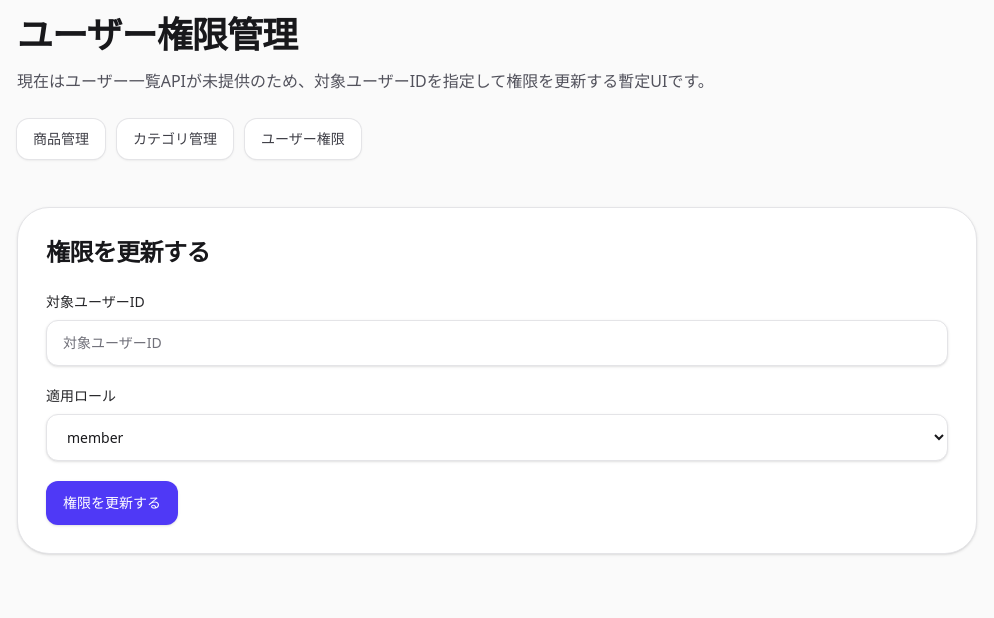
AdminUsersPage › ユーザーIDの入力を検証する
Type "0" into the number field with placeholder "対象ユーザーID" at coordinates (497, 343), box 46,320 -> 948,366
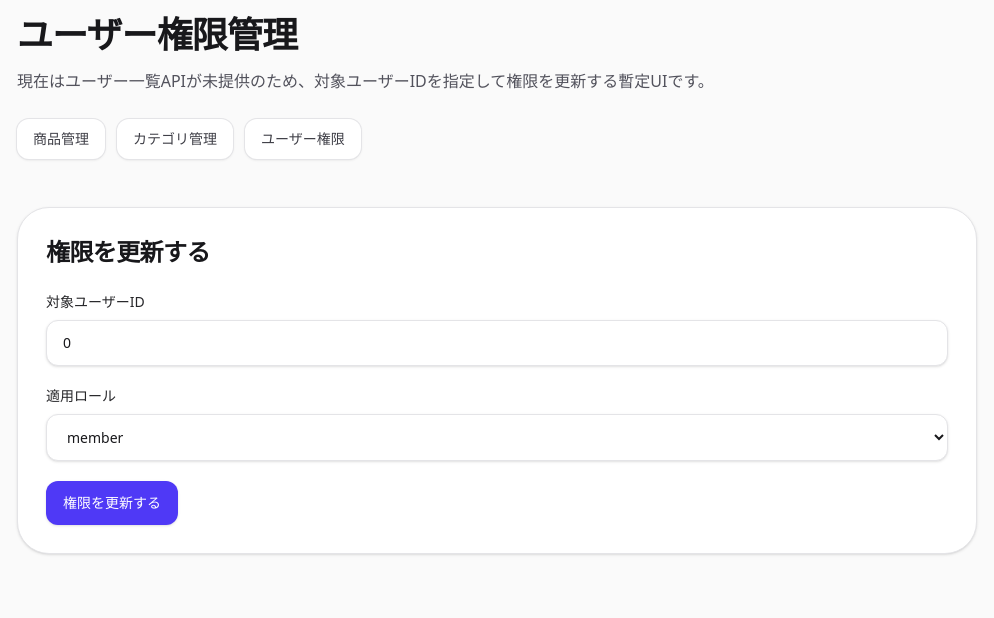
Click the button "権限を更新する" at coordinates (112, 503), box 46,481 -> 178,525
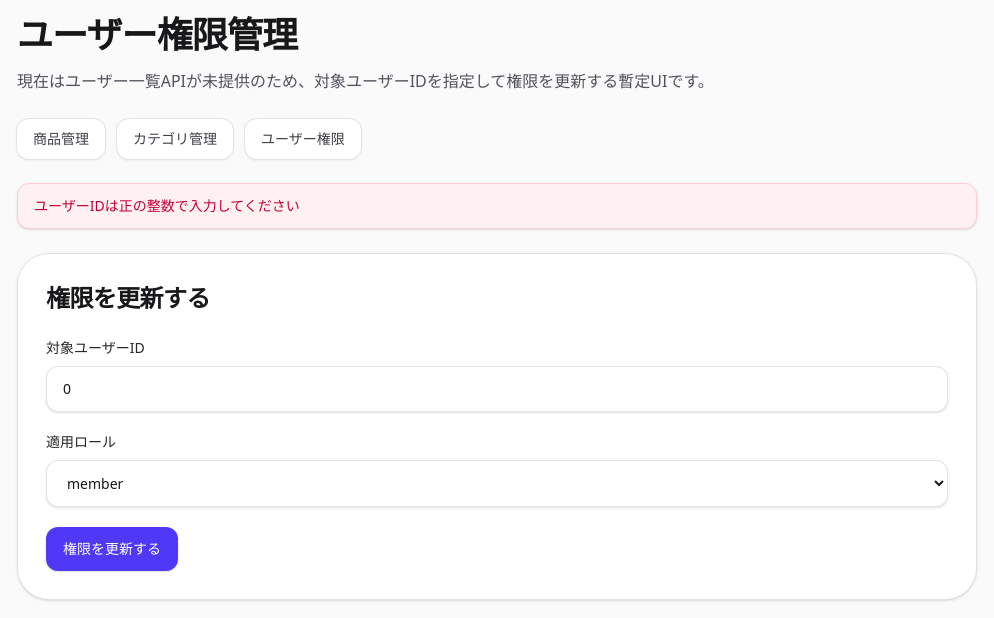
expect the text "ユーザーIDは正の整数で入力してください" is shown: met, box 17,183 -> 977,229
